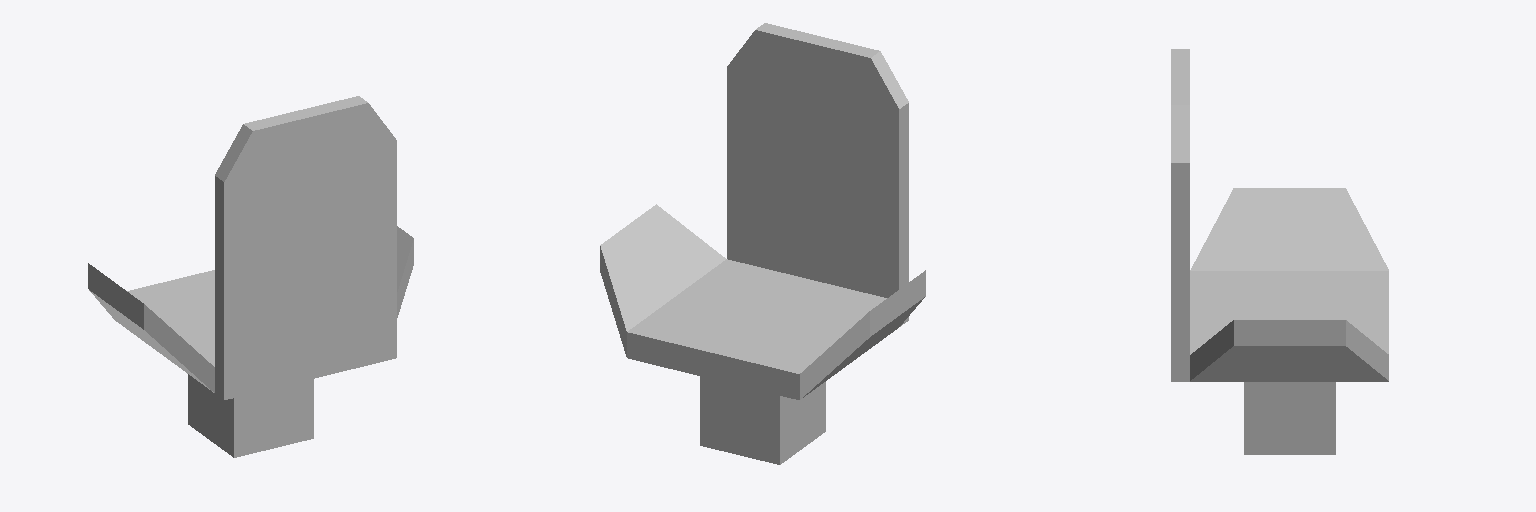
File: techChair.obj
3 views of the same model, side by side, from view 1: azimuth 30°, elevation 25°; view 2: azimuth 150°, elevation 25°; view 3: azimuth 270°, elevation 25° (orthographic).
Parts seen in each view (by area): view 1: pCube8; view 2: pCube8; view 3: pCube8.
Boxes of the visible parts, <box> form: pCube8: <box>88,96,413,457</box>; pCube8: <box>600,23,925,464</box>; pCube8: <box>1171,49,1388,454</box>.
Size of the model in its own units: 3.37 by 4.28 by 2.37.